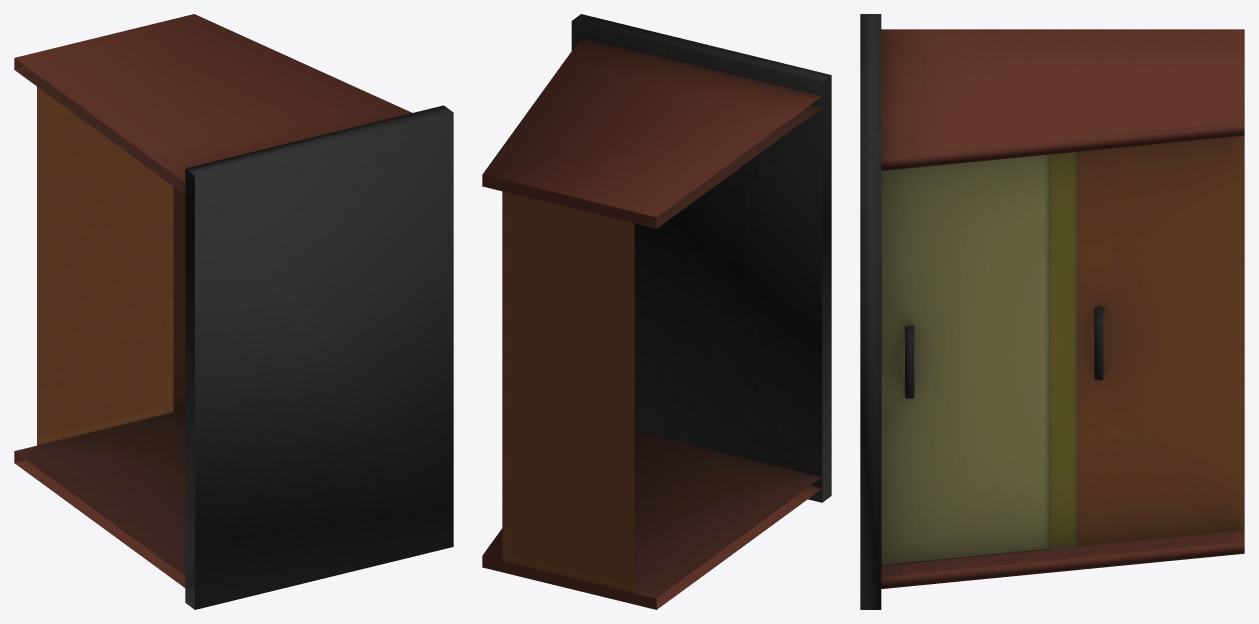
The model's file is nt_bedside_drawer_LOD1.obj.
The picture shows the model from 3 angles, left to right: view 1: azimuth 30°, elevation 25°; view 2: azimuth 150°, elevation 25°; view 3: azimuth 270°, elevation 25°; orthographic projection. The views are drawn at different scales.
Visible parts, largest first — view 1: mtl_nt_bedside_drawer; view 2: mtl_nt_bedside_drawer; view 3: mtl_nt_bedside_drawer.
Part boxes in pixels (box(x1,y1,x2,y2)): mtl_nt_bedside_drawer: box(14, 14, 453, 609); mtl_nt_bedside_drawer: box(482, 14, 831, 609); mtl_nt_bedside_drawer: box(860, 14, 1244, 609).
Size of the model in its own units: 57.69 by 92.56 by 69.85.
